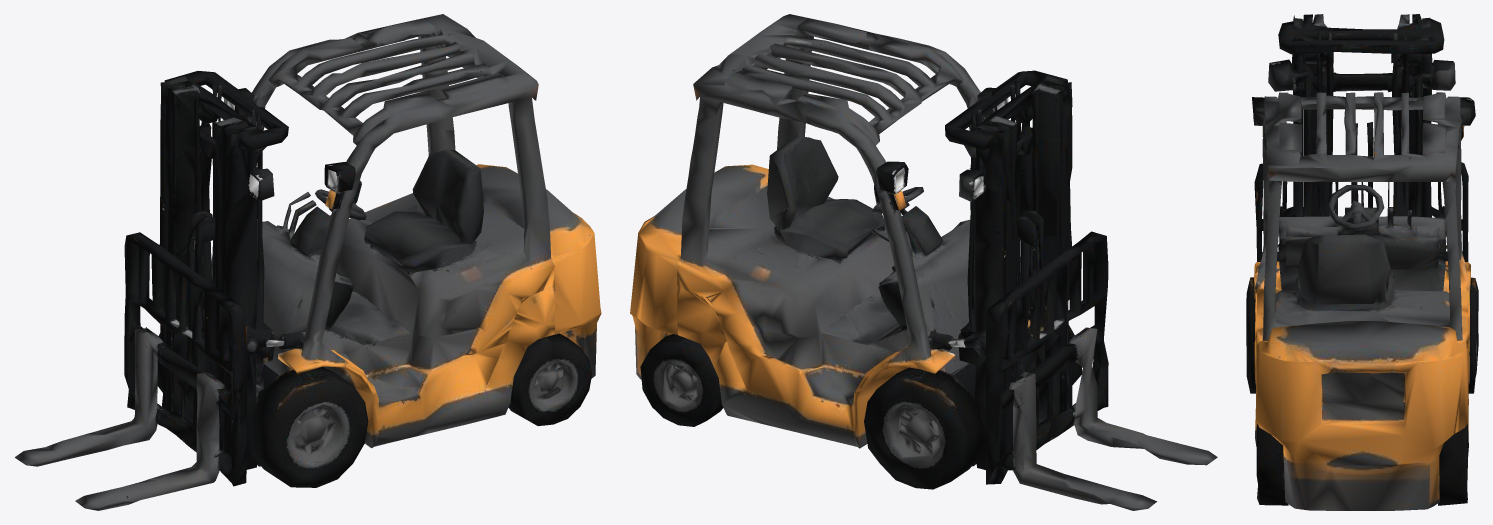
The model's file is autoelevador.glb.
3 renders of one model, left to right at view 1: azimuth 30°, elevation 25°; view 2: azimuth 150°, elevation 25°; view 3: azimuth 270°, elevation 25°, orthographic. The views are drawn at different scales.
Size of the model in its own units: 3.3 by 2.16 by 1.32.
Materials: 1 (1 with a texture image).
